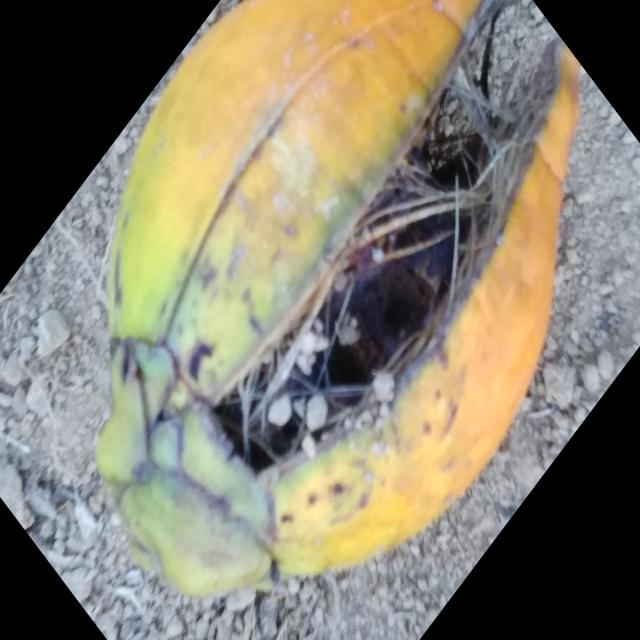damaged: (96, 0, 579, 596)
